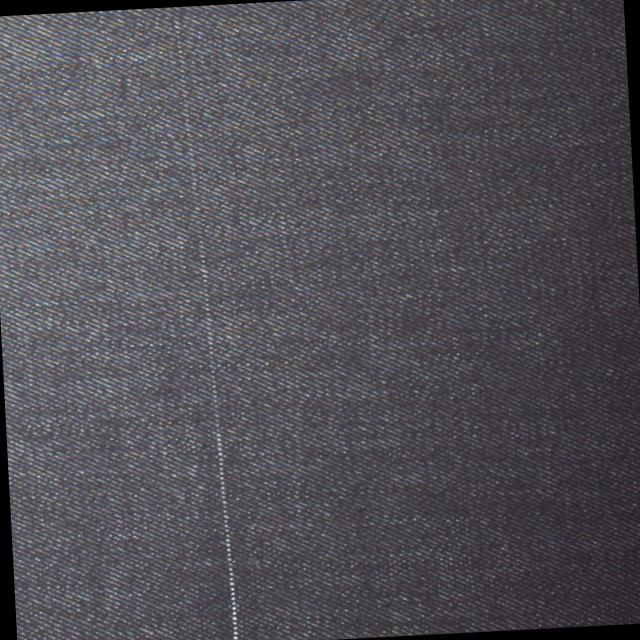Warp_Weft: (164, 10, 248, 640)
